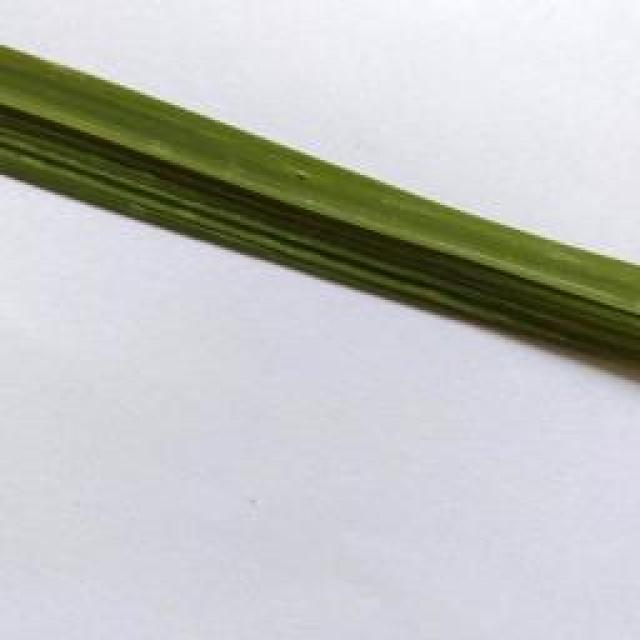Healthy-Plant: (0, 44, 640, 371)
